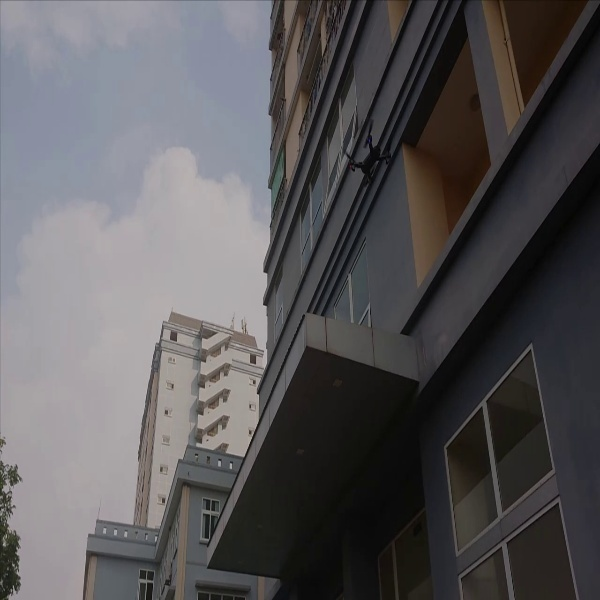drone: (337, 119, 395, 188)
